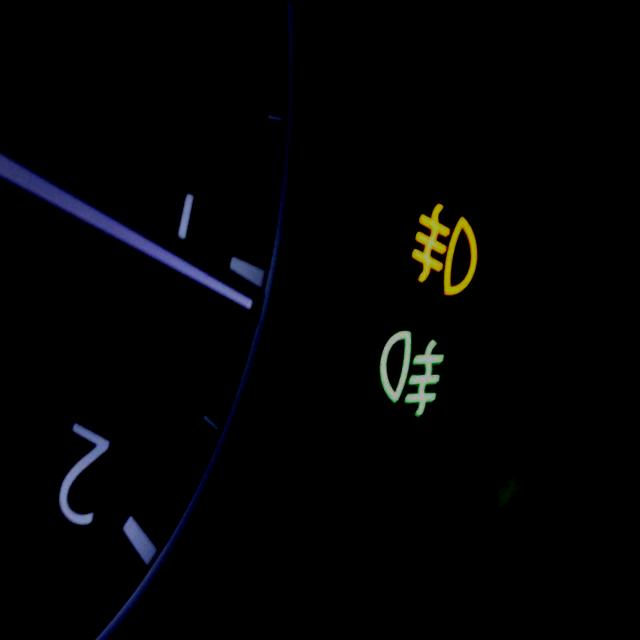kontrolka: (388, 178, 496, 324), (370, 318, 465, 446)
